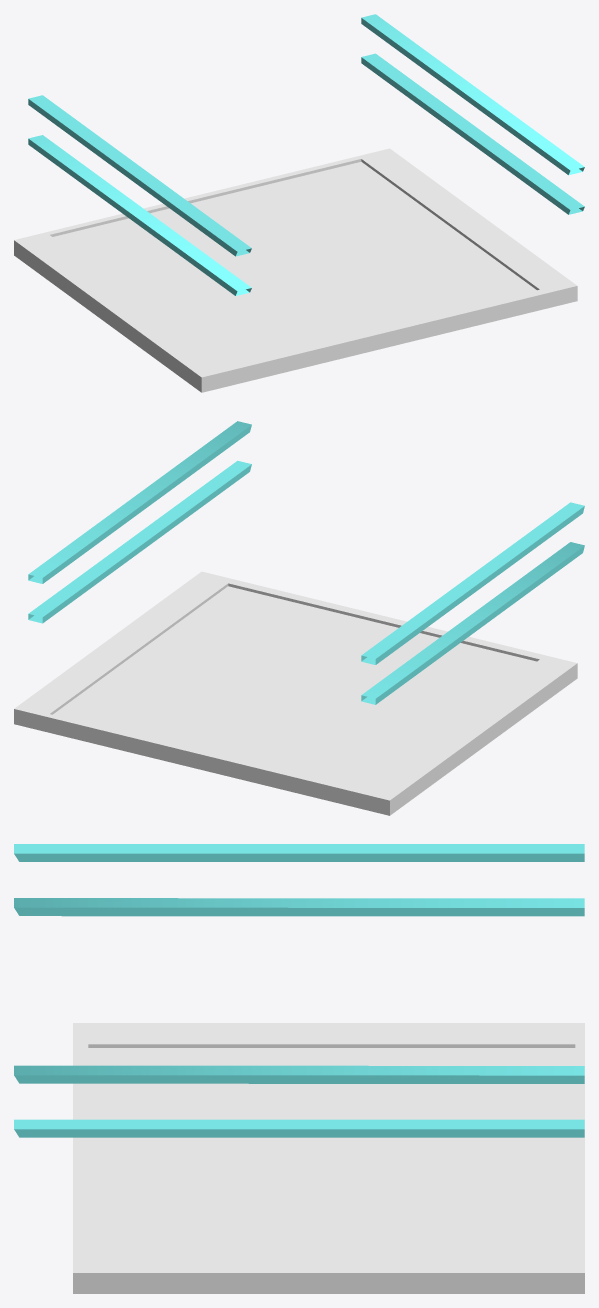
File: Hangar_HoverPlatform_01.fbx
The picture shows the model from 3 angles, top to bottom: view 1: azimuth 30°, elevation 25°; view 2: azimuth 150°, elevation 25°; view 3: azimuth 270°, elevation 25°; orthographic projection. The views are drawn at different scales.
Visible parts, largest first — view 1: HoverPlatform_01; view 2: HoverPlatform_01; view 3: HoverPlatform_01.
Boxes of the visible parts, left/top/right/bottom form: HoverPlatform_01: left=14, top=14, right=584, bottom=392; HoverPlatform_01: left=14, top=421, right=584, bottom=815; HoverPlatform_01: left=14, top=844, right=584, bottom=1293.
Bounding box in the file's own units: 227 × 88.44 × 219.
